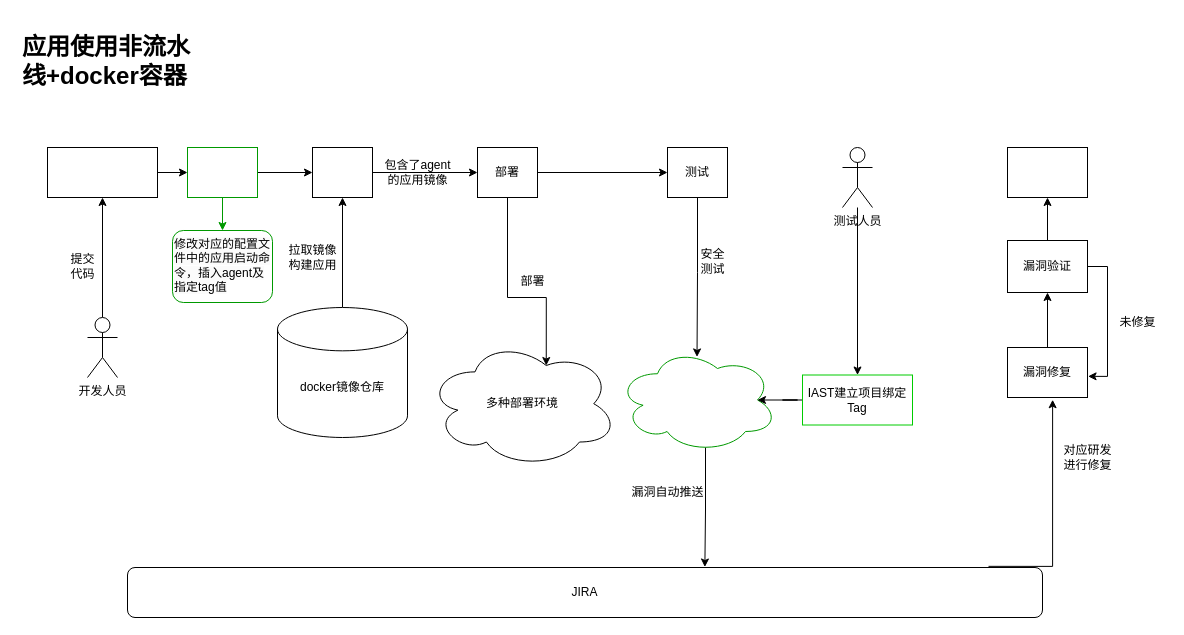
The diagram is 1184 pixels wide and 635 high, and some of its shapes have lost their labels. The shapes that lost their labels are listed below. From the top down, each one's centre as x and y in pixels, then its label:
the point at 102,172: Git/SVN
the point at 222,172: 插入agent
the point at 342,172: 编译
the point at 1047,172: 上线
the point at 697,399: IAST工具
